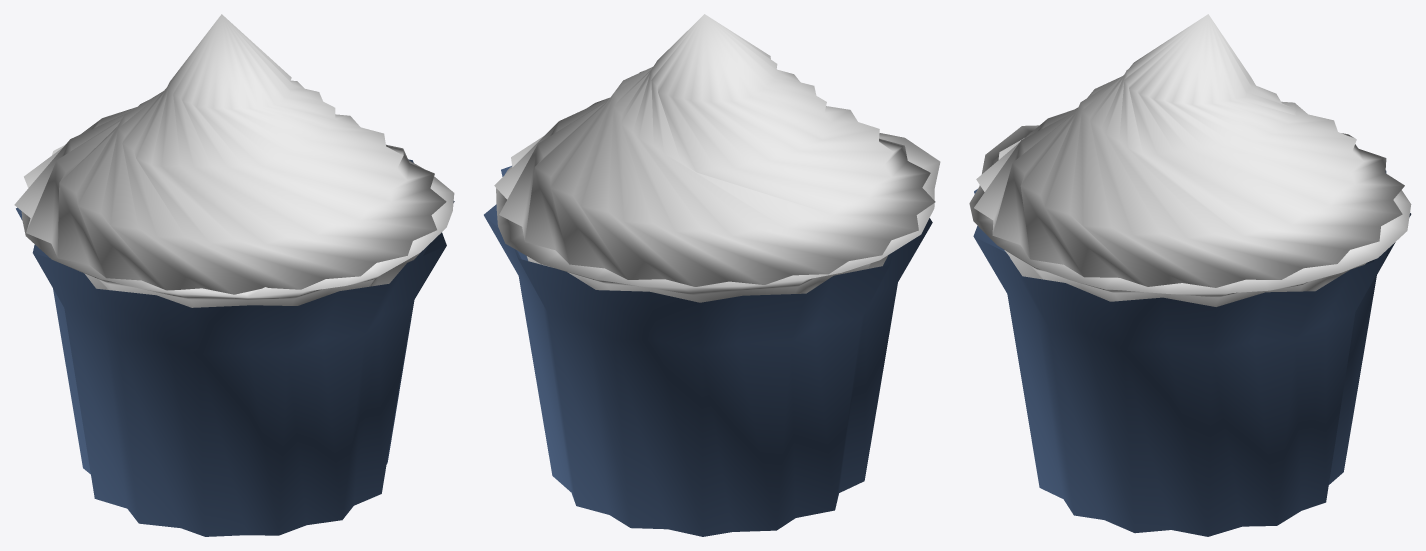
The model's file is Cupcake3.fbx.
The picture shows the model from 3 angles, left to right: view 1: azimuth 30°, elevation 25°; view 2: azimuth 150°, elevation 25°; view 3: azimuth 270°, elevation 25°; orthographic projection. The views are drawn at different scales.
Visible parts, largest first — view 1: Bake_Cupcake2; view 2: Bake_Cupcake2; view 3: Bake_Cupcake2.
Boxes of the visible parts, x1,y1,x2,y2 form: Bake_Cupcake2: (14,14,454,536); Bake_Cupcake2: (484,14,940,536); Bake_Cupcake2: (969,14,1411,536).
Size of the model in its own units: 18.53 by 20.83 by 18.31.
